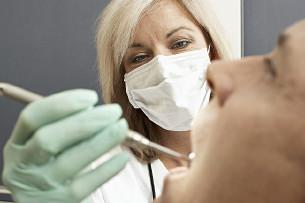NONE: (168, 33, 305, 203)
OK: (123, 33, 212, 130)
